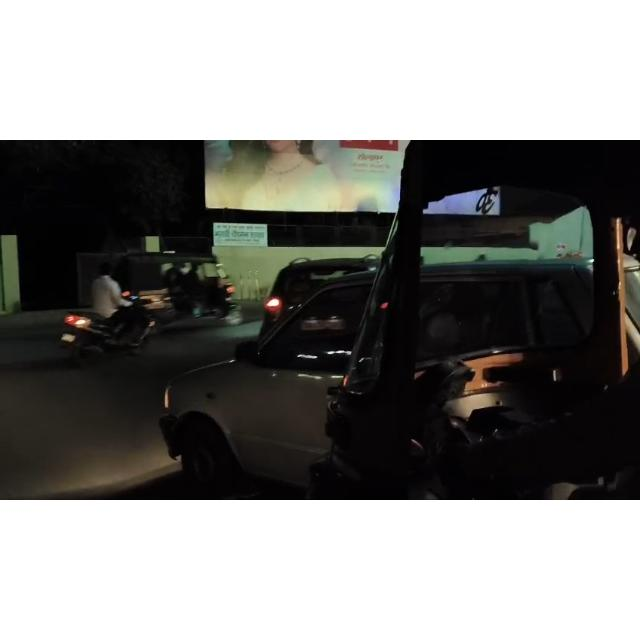auto: (308, 139, 640, 501), (109, 234, 255, 329)
car: (158, 248, 640, 496), (254, 251, 403, 371)
